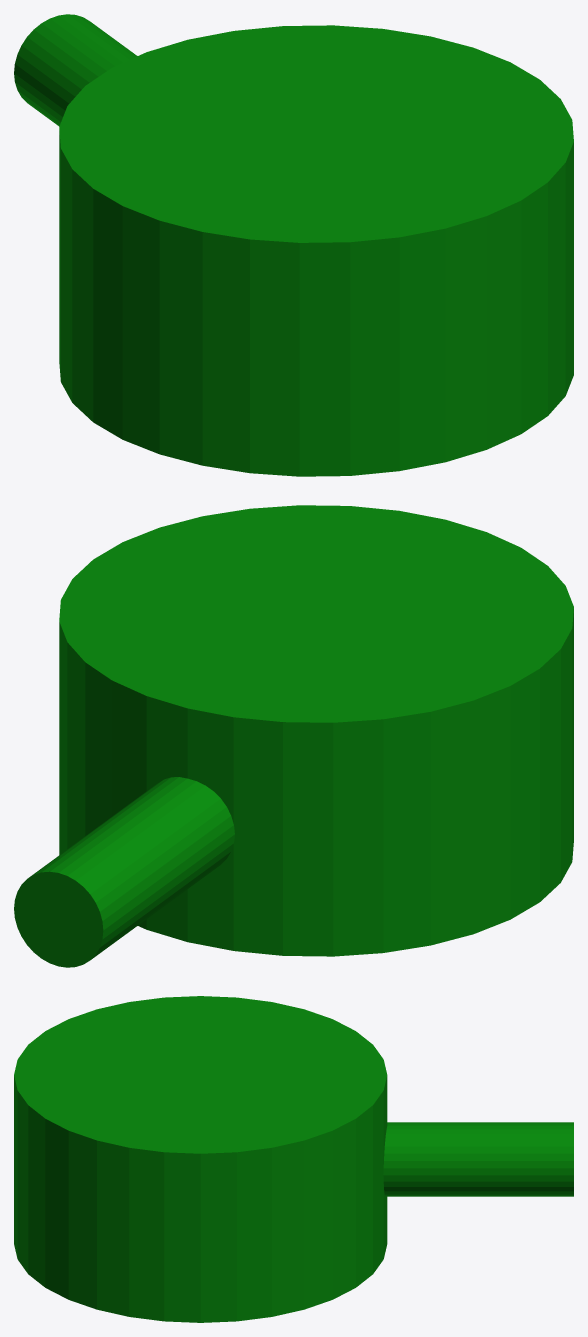
Rendered from battery2.obj.
3 renders of one model, top to bottom at view 1: azimuth 30°, elevation 25°; view 2: azimuth 150°, elevation 25°; view 3: azimuth 270°, elevation 25°, orthographic. The views are drawn at different scales.
Parts seen in each view (by area): view 1: Cylinder, Cylinder.001; view 2: Cylinder, Cylinder.001; view 3: Cylinder, Cylinder.001.
Boxes of the visible parts, x1,y1,x2,y2 form: Cylinder: (59, 25, 573, 476); Cylinder.001: (14, 14, 137, 126); Cylinder: (59, 505, 573, 956); Cylinder.001: (14, 777, 234, 967); Cylinder: (14, 996, 387, 1322); Cylinder.001: (383, 1122, 573, 1196).
Size of the model in its own units: 2 by 1 by 3.
